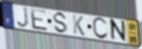C: (92, 17, 110, 41)
E: (29, 8, 49, 33)
J: (17, 7, 31, 29)
K: (72, 14, 86, 38)
N: (110, 18, 127, 44)
S: (53, 12, 69, 35)
